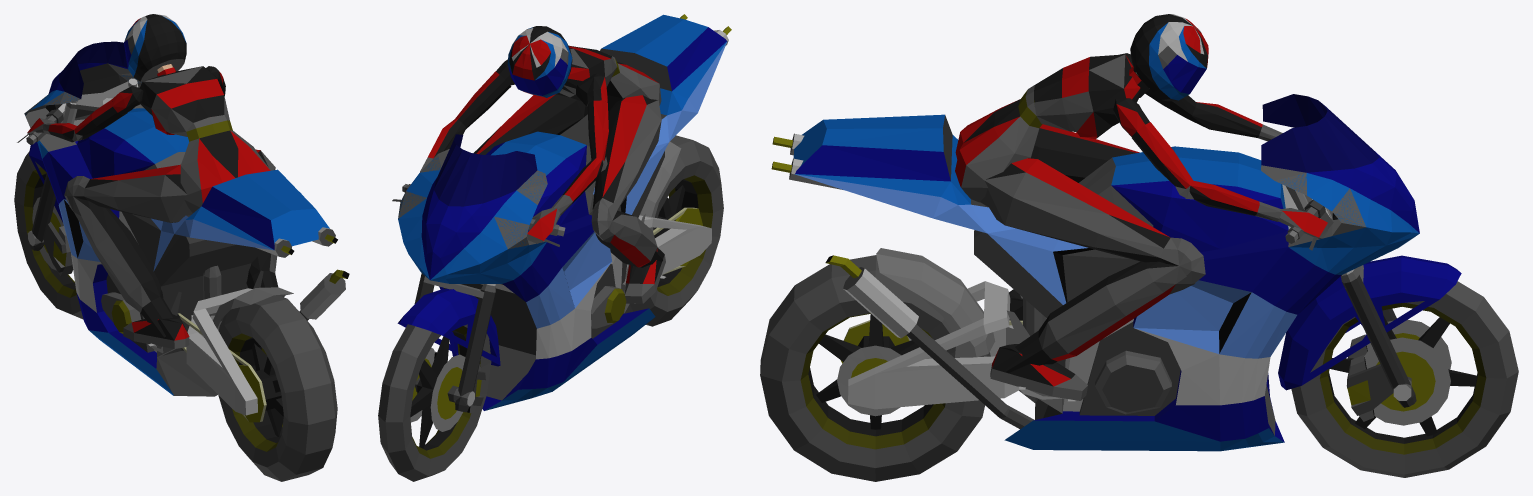
The model's file is Rider.obj.
3 renders of one model, left to right at view 1: azimuth 30°, elevation 25°; view 2: azimuth 150°, elevation 25°; view 3: azimuth 270°, elevation 25°, orthographic. The views are drawn at different scales.
Parts seen in each view (by area): view 1: ShapeIndexedFaceSet.050_ShapeIndexedFaceSet.051, ShapeIndexedFaceSet.001_ShapeIndexedFaceSet.002, ShapeIndexedFaceSet.021_ShapeIndexedFaceSet.022, ShapeIndexedFaceSet.044_ShapeIndexedFaceSet.045, ShapeIndexedFaceSet.004_ShapeIndexedFaceSet.005, ShapeIndexedFaceSet.109_ShapeIndexedFaceSet.110, ShapeIndexedFaceSet.113_ShapeIndexedFaceSet.114, ShapeIndexedFaceSet.112_ShapeIndexedFaceSet.113, ShapeIndexedFaceSet.040_ShapeIndexedFaceSet.041, ShapeIndexedFaceSet.048_ShapeIndexedFaceSet.049, ShapeIndexedFaceSet.019_ShapeIndexedFaceSet.020, ShapeIndexedFaceSet.077_ShapeIndexedFaceSet.078 (+41 smaller); view 2: ShapeIndexedFaceSet.009_ShapeIndexedFaceSet.010, ShapeIndexedFaceSet.010_ShapeIndexedFaceSet.011, ShapeIndexedFaceSet.040_ShapeIndexedFaceSet.041, ShapeIndexedFaceSet.001_ShapeIndexedFaceSet.002, ShapeIndexedFaceSet.014_ShapeIndexedFaceSet.015, ShapeIndexedFaceSet.050_ShapeIndexedFaceSet.051, ShapeIndexedFaceSet.015_ShapeIndexedFaceSet.016, ShapeIndexedFaceSet.011_ShapeIndexedFaceSet.012, ShapeIndexedFaceSet.004_ShapeIndexedFaceSet.005, ShapeIndexedFaceSet.024_ShapeIndexedFaceSet.025, ShapeIndexedFaceSet.109_ShapeIndexedFaceSet.110, ShapeIndexedFaceSet.006_ShapeIndexedFaceSet.007 (+43 smaller); view 3: ShapeIndexedFaceSet.050_ShapeIndexedFaceSet.051, ShapeIndexedFaceSet.009_ShapeIndexedFaceSet.010, ShapeIndexedFaceSet.040_ShapeIndexedFaceSet.041, ShapeIndexedFaceSet.010_ShapeIndexedFaceSet.011, ShapeIndexedFaceSet.001_ShapeIndexedFaceSet.002, ShapeIndexedFaceSet.004_ShapeIndexedFaceSet.005, ShapeIndexedFaceSet.024_ShapeIndexedFaceSet.025, ShapeIndexedFaceSet.044_ShapeIndexedFaceSet.045, ShapeIndexedFaceSet.119_ShapeIndexedFaceSet.120, ShapeIndexedFaceSet.011_ShapeIndexedFaceSet.012, ShapeIndexedFaceSet.014_ShapeIndexedFaceSet.015, ShapeIndexedFaceSet.006_ShapeIndexedFaceSet.007 (+40 smaller).
Boxes of the visible parts, box(x1,y1,x2,y2) form: ShapeIndexedFaceSet.050_ShapeIndexedFaceSet.051: box(218, 295, 337, 481); ShapeIndexedFaceSet.001_ShapeIndexedFaceSet.002: box(104, 108, 329, 249); ShapeIndexedFaceSet.021_ShapeIndexedFaceSet.022: box(154, 234, 262, 396); ShapeIndexedFaceSet.044_ShapeIndexedFaceSet.045: box(186, 288, 257, 415); ShapeIndexedFaceSet.004_ShapeIndexedFaceSet.005: box(77, 128, 274, 249); ShapeIndexedFaceSet.109_ShapeIndexedFaceSet.110: box(64, 175, 192, 222); ShapeIndexedFaceSet.113_ShapeIndexedFaceSet.114: box(74, 197, 172, 338); ShapeIndexedFaceSet.112_ShapeIndexedFaceSet.113: box(69, 196, 150, 312); ShapeIndexedFaceSet.040_ShapeIndexedFaceSet.041: box(14, 151, 83, 319); ShapeIndexedFaceSet.048_ShapeIndexedFaceSet.049: box(239, 337, 283, 442); ShapeIndexedFaceSet.019_ShapeIndexedFaceSet.020: box(49, 144, 156, 368); ShapeIndexedFaceSet.077_ShapeIndexedFaceSet.078: box(127, 14, 186, 81); ShapeIndexedFaceSet.009_ShapeIndexedFaceSet.010: box(398, 157, 655, 410); ShapeIndexedFaceSet.010_ShapeIndexedFaceSet.011: box(421, 178, 596, 389); ShapeIndexedFaceSet.040_ShapeIndexedFaceSet.041: box(378, 324, 491, 481); ShapeIndexedFaceSet.001_ShapeIndexedFaceSet.002: box(491, 14, 726, 175); ShapeIndexedFaceSet.014_ShapeIndexedFaceSet.015: box(434, 134, 537, 206); ShapeIndexedFaceSet.050_ShapeIndexedFaceSet.051: box(624, 135, 723, 326); ShapeIndexedFaceSet.015_ShapeIndexedFaceSet.016: box(398, 149, 547, 400); ShapeIndexedFaceSet.011_ShapeIndexedFaceSet.012: box(526, 232, 611, 328); ShapeIndexedFaceSet.004_ShapeIndexedFaceSet.005: box(486, 27, 726, 231); ShapeIndexedFaceSet.024_ShapeIndexedFaceSet.025: box(397, 288, 500, 366); ShapeIndexedFaceSet.109_ShapeIndexedFaceSet.110: box(591, 100, 661, 240); ShapeIndexedFaceSet.006_ShapeIndexedFaceSet.007: box(593, 41, 727, 214); ShapeIndexedFaceSet.050_ShapeIndexedFaceSet.051: box(760, 255, 990, 481); ShapeIndexedFaceSet.009_ShapeIndexedFaceSet.010: box(1004, 173, 1419, 451); ShapeIndexedFaceSet.040_ShapeIndexedFaceSet.041: box(1291, 281, 1518, 477); ShapeIndexedFaceSet.010_ShapeIndexedFaceSet.011: box(1155, 151, 1419, 441); ShapeIndexedFaceSet.001_ShapeIndexedFaceSet.002: box(793, 114, 1288, 228); ShapeIndexedFaceSet.004_ShapeIndexedFaceSet.005: box(795, 145, 1288, 252); ShapeIndexedFaceSet.024_ShapeIndexedFaceSet.025: box(1278, 255, 1461, 390); ShapeIndexedFaceSet.044_ShapeIndexedFaceSet.045: box(848, 281, 1019, 409); ShapeIndexedFaceSet.119_ShapeIndexedFaceSet.120: box(980, 172, 1205, 282); ShapeIndexedFaceSet.011_ShapeIndexedFaceSet.012: box(1133, 280, 1296, 358); ShapeIndexedFaceSet.014_ShapeIndexedFaceSet.015: box(1261, 94, 1379, 172); ShapeIndexedFaceSet.006_ShapeIndexedFaceSet.007: box(794, 174, 1087, 304).
Bounding box in the file's own units: 1.98 × 4.2 × 6.35.
